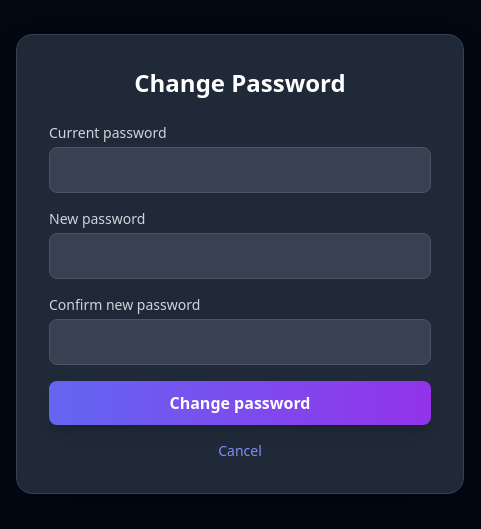
Scenario: ChangePasswordPage › blocks submit when new password has no numbers
In the password field with id "current-password": (240, 170) [49,147,431,193], type "CurrentPass1"
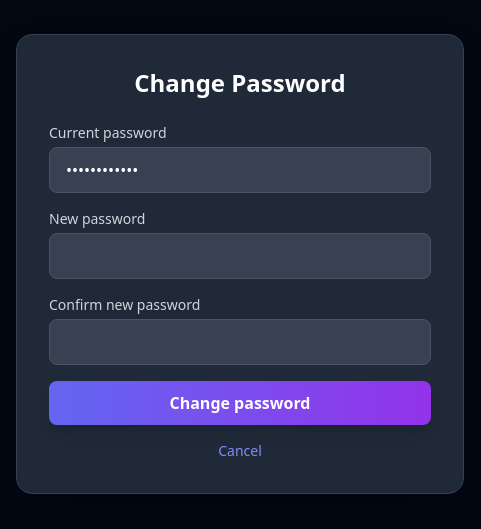
In the password field with id "new-password": (240, 256) [49,233,431,279], type "abcdefgh"
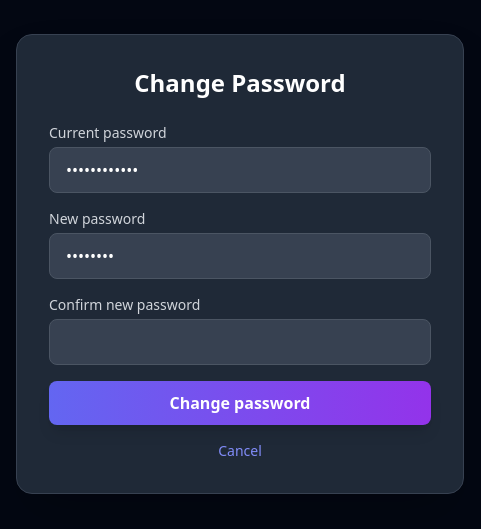
In the password field with id "confirm-new-password": (240, 342) [49,319,431,365], type "abcdefgh"
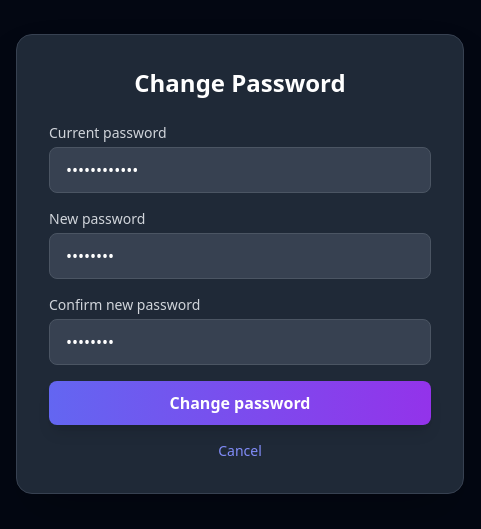
Submit the form, box [49,123,431,425]
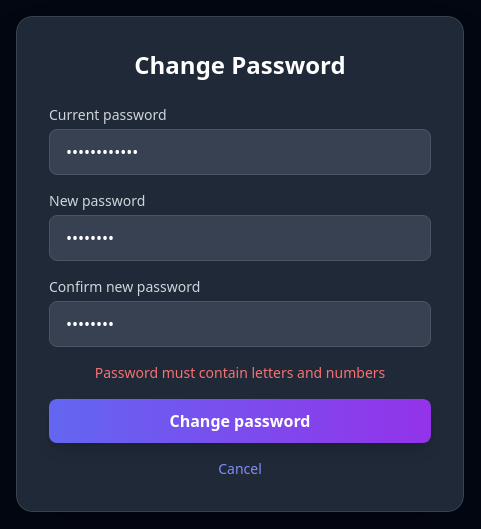
Result: the text with class "error" reads "Password must contain letters and numbers" at [95,363,385,382]
